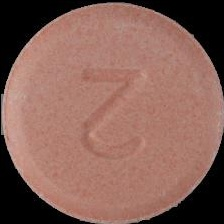50436-4234: (0, 0, 224, 224)
